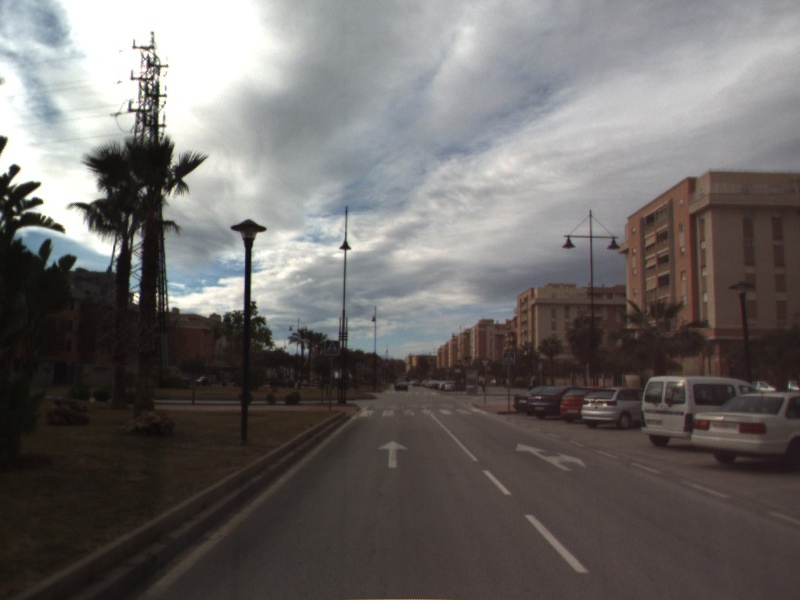STRAIGHT: (376, 438, 409, 469)
STRAIGHT_RIGHT: (514, 442, 588, 473)
